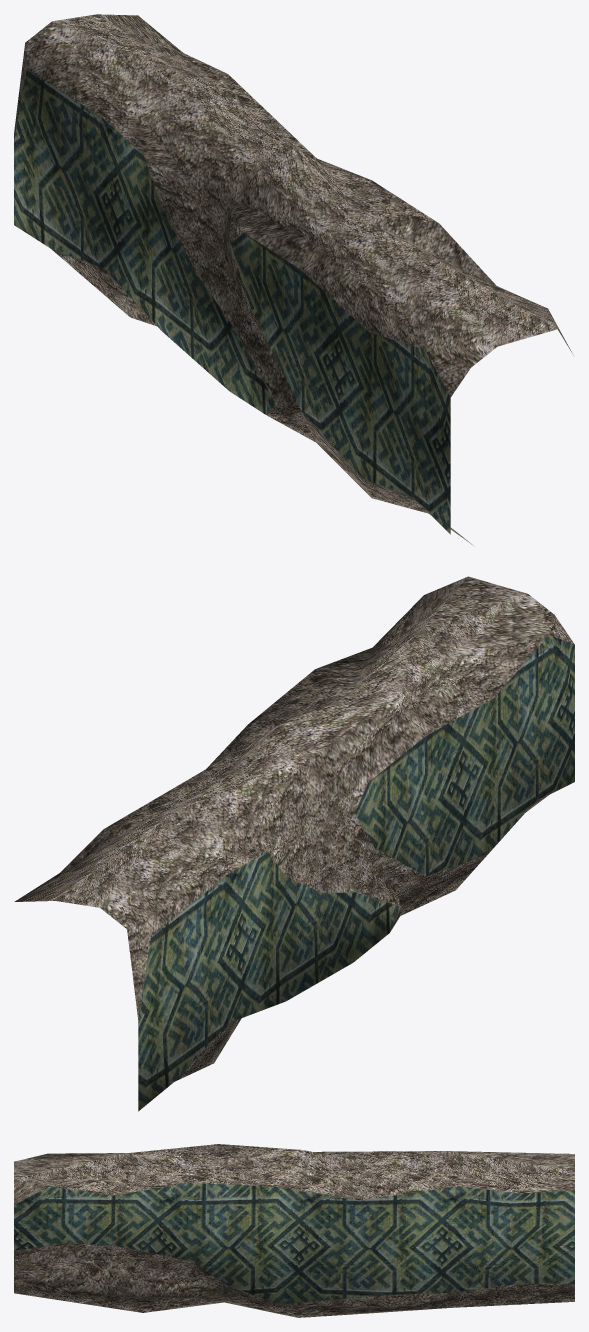
File: OBJBedrockBlock.gltf
3 renders of one model, top to bottom at view 1: azimuth 30°, elevation 25°; view 2: azimuth 150°, elevation 25°; view 3: azimuth 270°, elevation 25°, orthographic. The views are drawn at different scales.
Parts seen in each view (by area): view 1: BedrockBlock; view 2: BedrockBlock; view 3: BedrockBlock.
Boxes of the visible parts, x1,y1,x2,y2 form: BedrockBlock: [14, 14, 573, 545]; BedrockBlock: [14, 576, 574, 1111]; BedrockBlock: [14, 1144, 574, 1317].
Size of the model in its own units: 1.5 by 2.87 by 9.13.
Materials: 2 (2 with a texture image).
